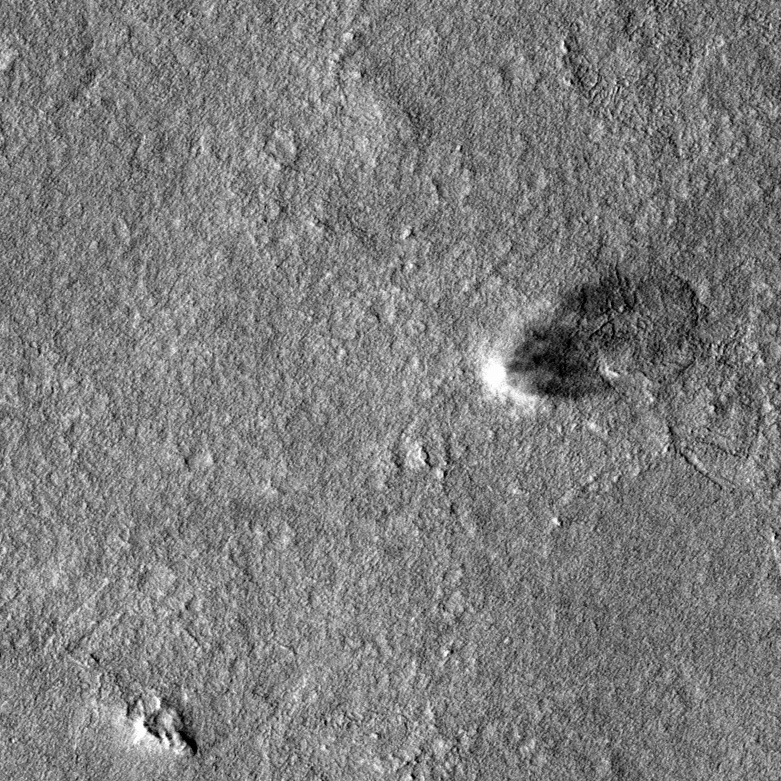dust_devil: (477, 267, 642, 410)
